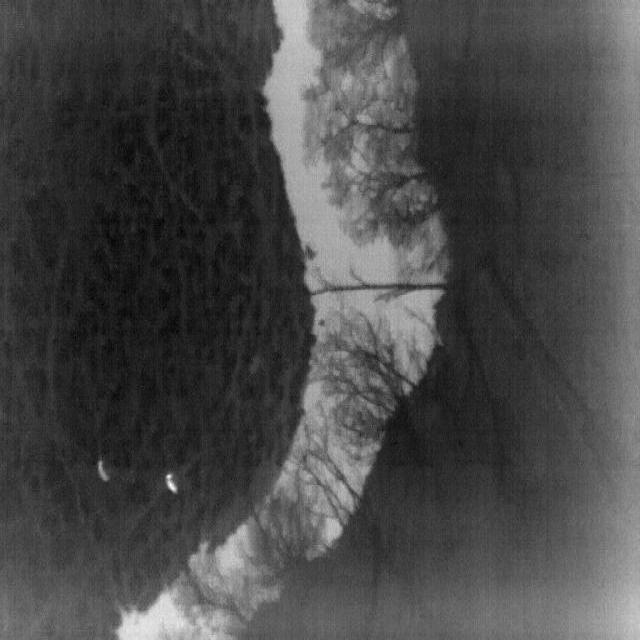deer: (165, 472, 179, 496), (96, 460, 110, 482)
